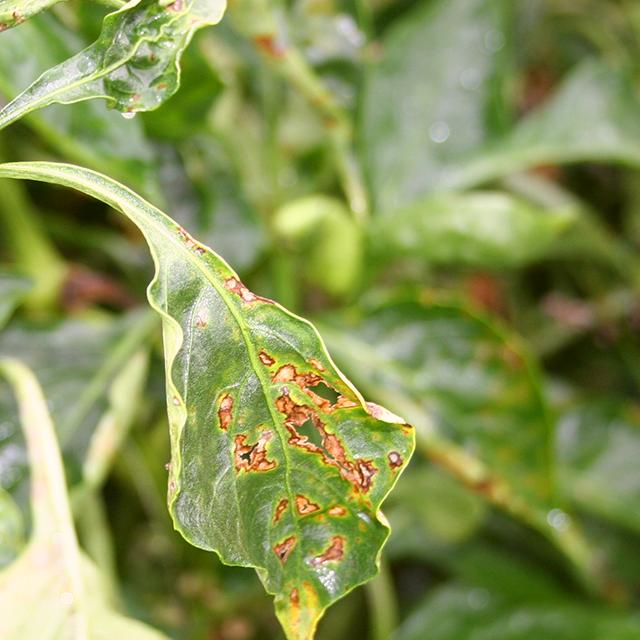Tomato leaf bacterial spot: (95, 196, 438, 640)
